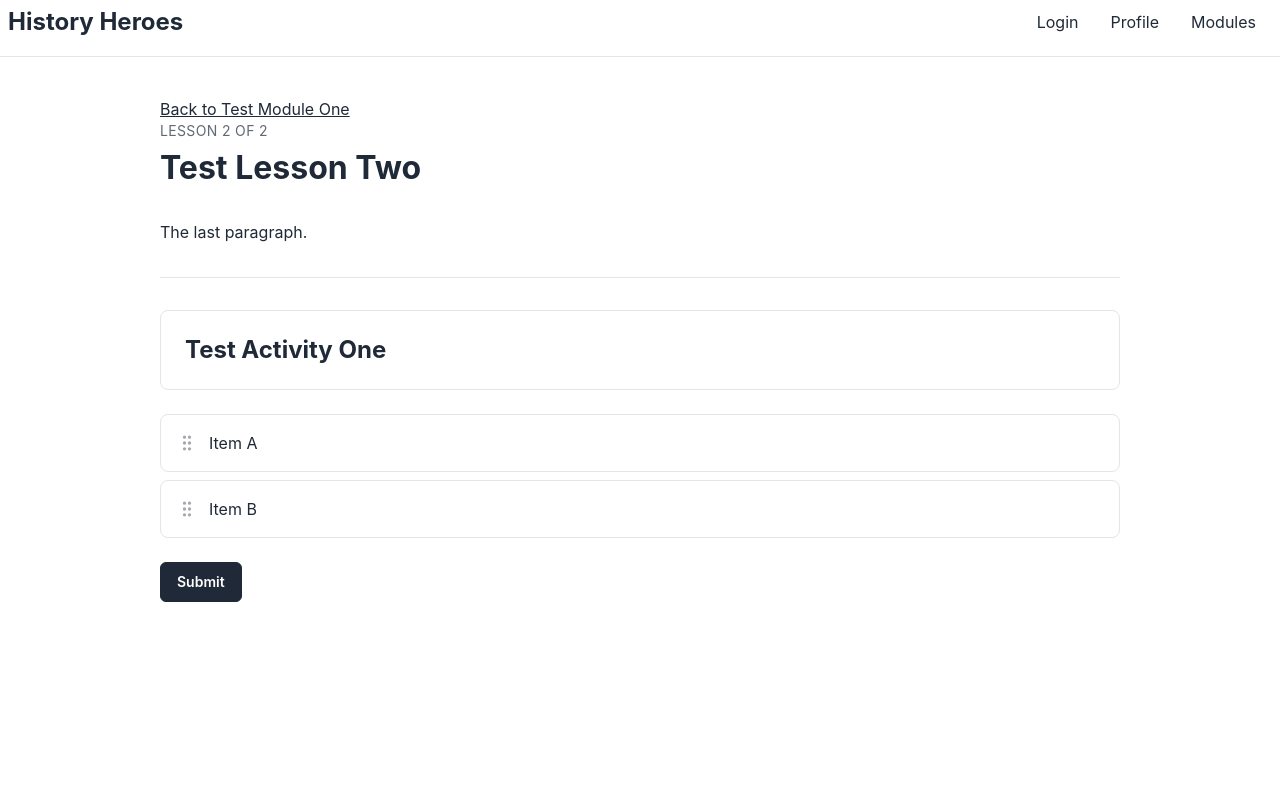
Test: does not render a next lesson after completing the final lesson
Expected: the text "The last paragraph." is shown, [160,222,307,242]
Click the button "Submit": (201, 582) [160,562,242,602]
(page scrolled)
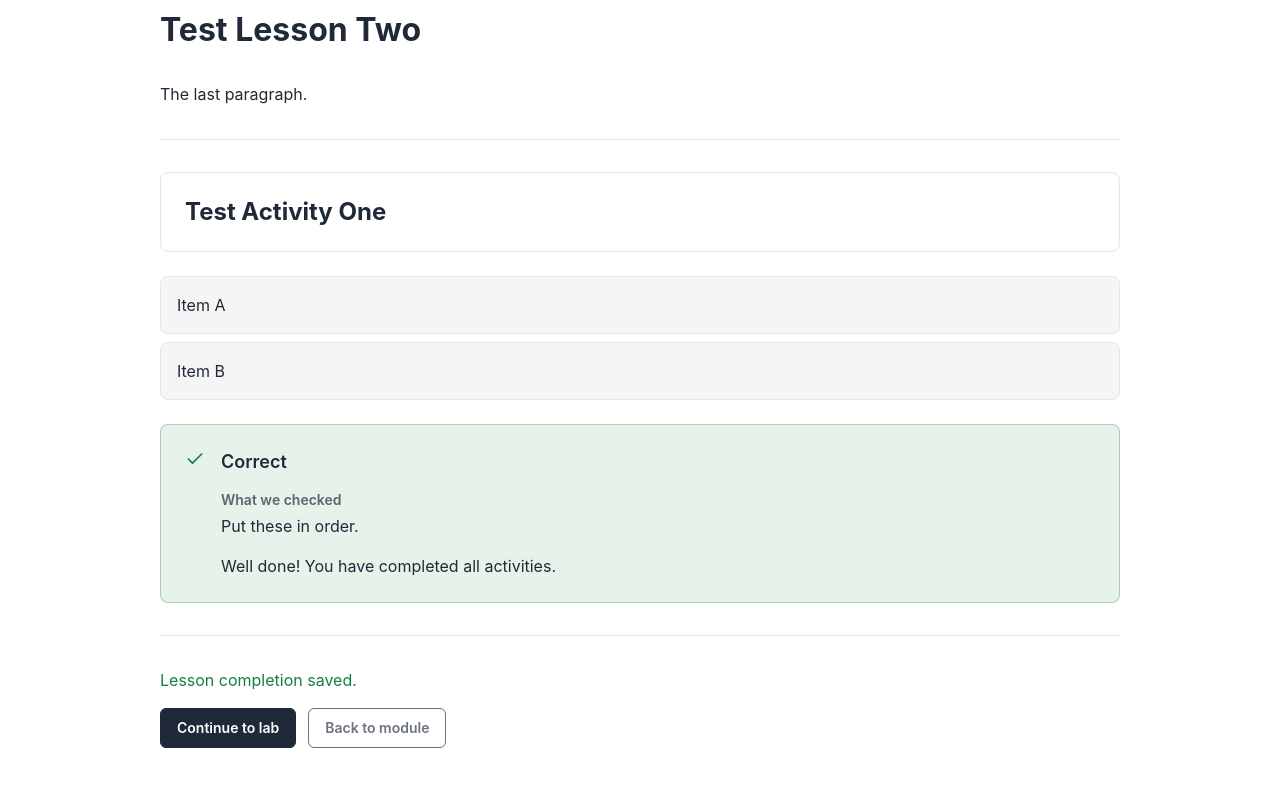
Expected: the message reads "Lesson completion saved.", [160,670,357,690]
